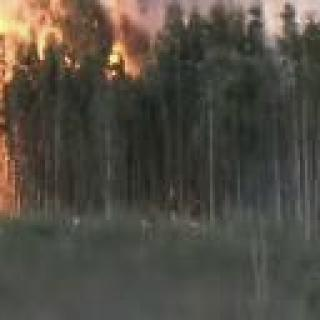fire: (47, 0, 159, 75), (0, 0, 17, 219)
